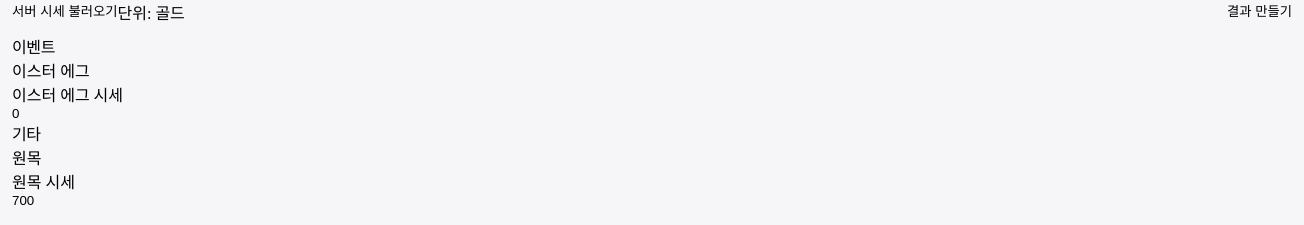
Scenario: MarketPriceForm 저장해 둔 시세로 시작 › '서버 시세 불러오기'는 지금처럼 서버 시세 전체로 바꾼다
Click the button "서버 시세 불러오기" at point(65, 12), box [12, 5, 118, 19]
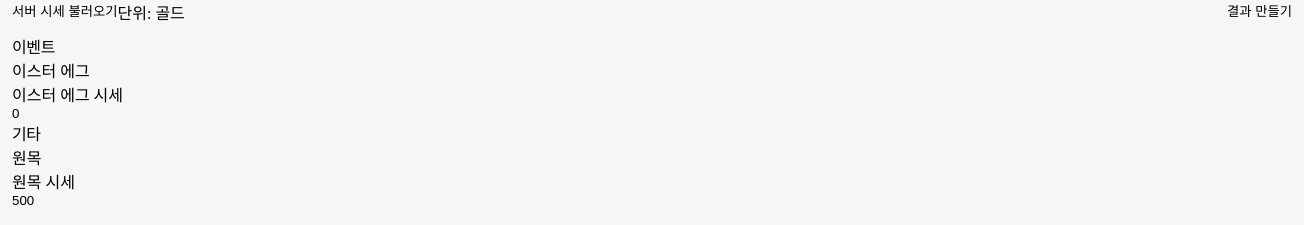
Expected: the number field labelled "원목 시세" holds "500", [12, 193, 1292, 208]
